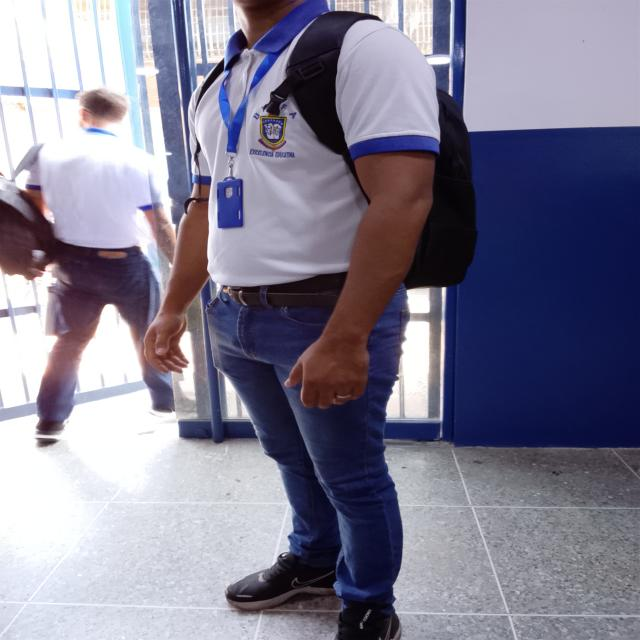carnet: (216, 178, 244, 228)
pantalon_oscuro: (20, 254, 175, 420)
uniforme_superior: (186, 0, 441, 287)
